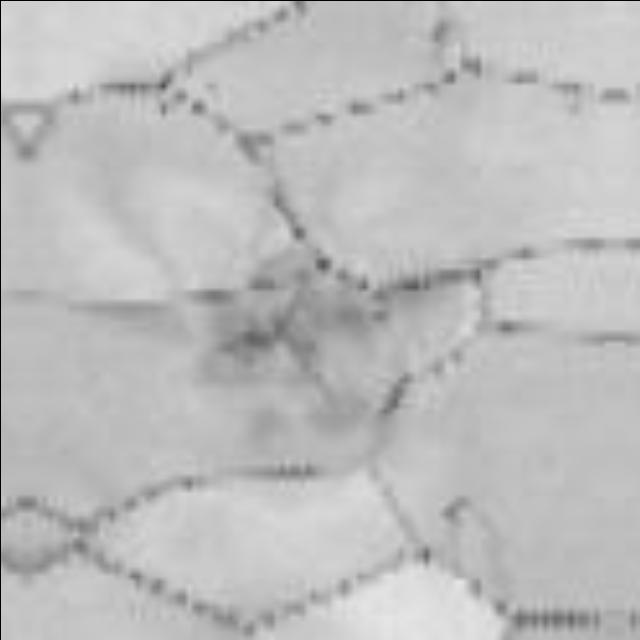good_void: (211, 274, 380, 373)
